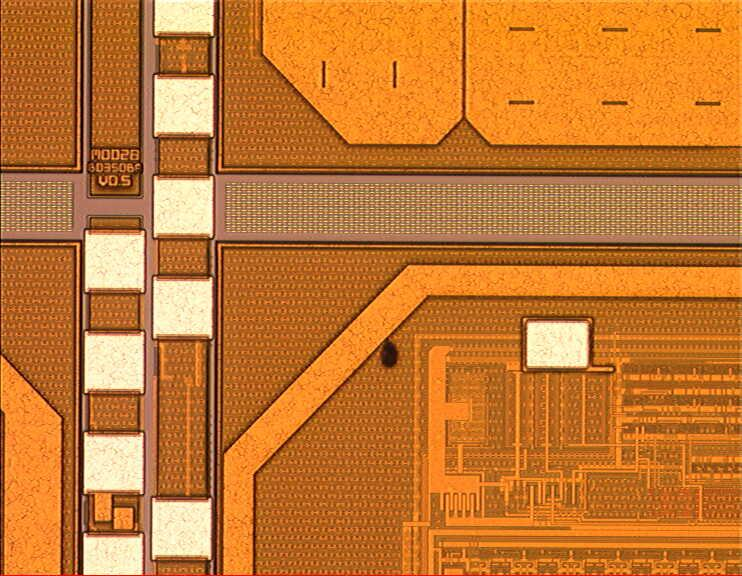PIQ PARTICLE: (371, 339, 407, 375)
